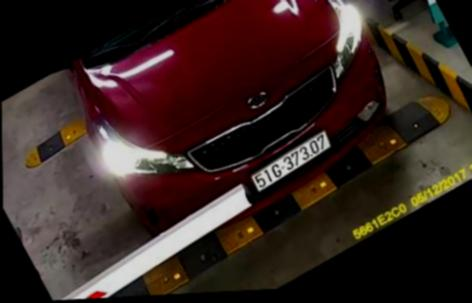License_Plate: (248, 134, 333, 191)
